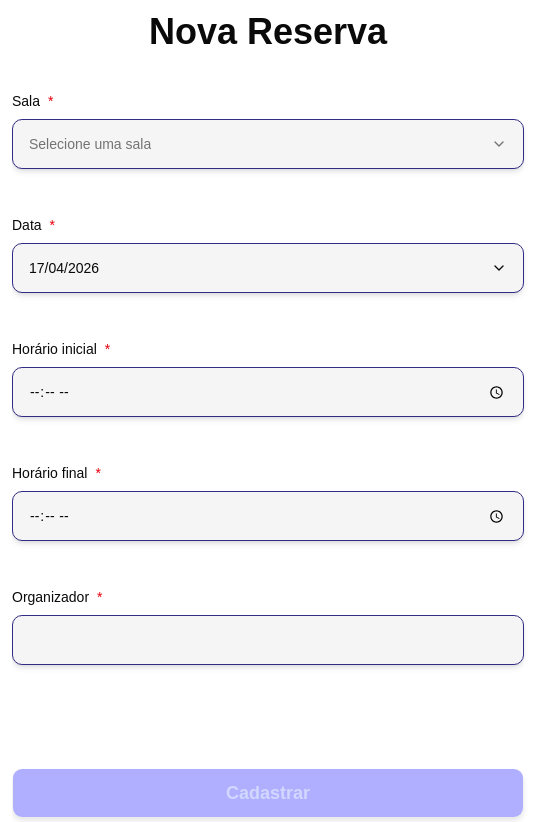
Test case: CreateReservation › Validações › deve habilitar o botão quando o formulário for válido
Check: the text "Selecione uma sala" is shown, box [29,134,151,154]
Click the dropdown with test id "select-salaId" at (90, 144), box [12,119,524,169]
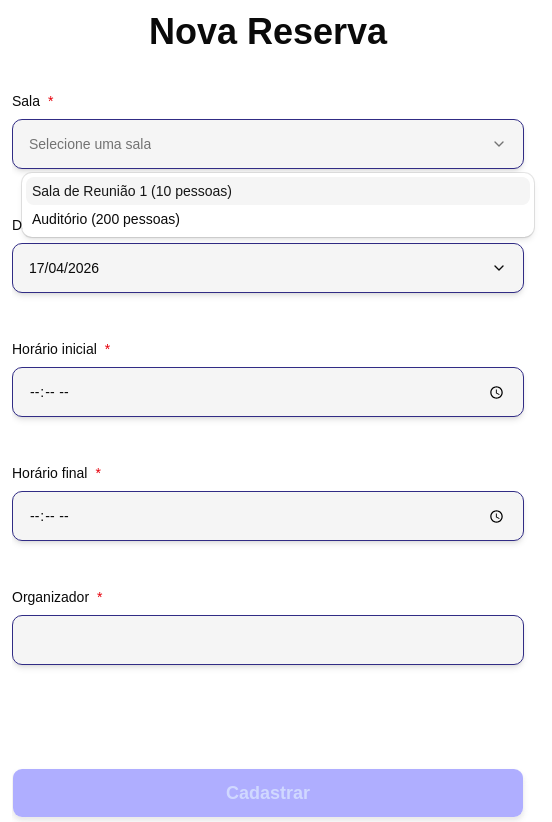
Click the option with test id "select-item-salaId" at (132, 191), box [26,177,530,205]
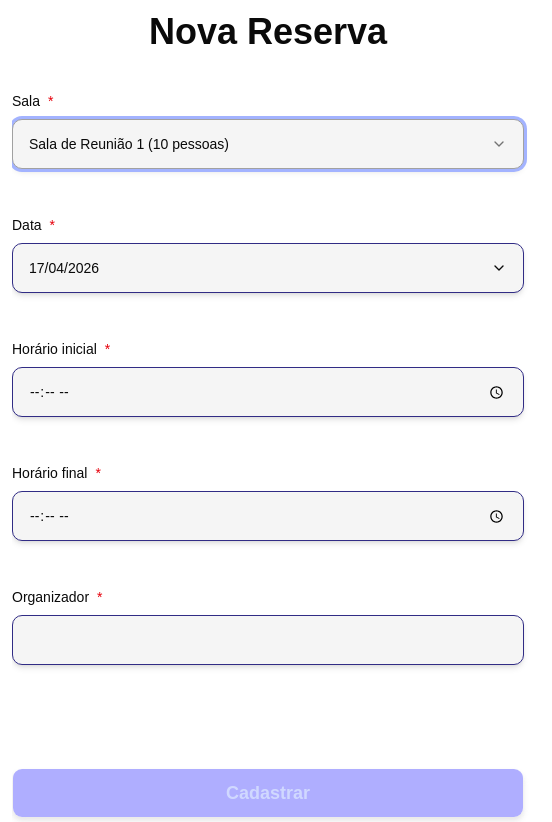
Type "19:00" into the time field with test id "input-inicio" at (268, 392), box [12,367,524,417]
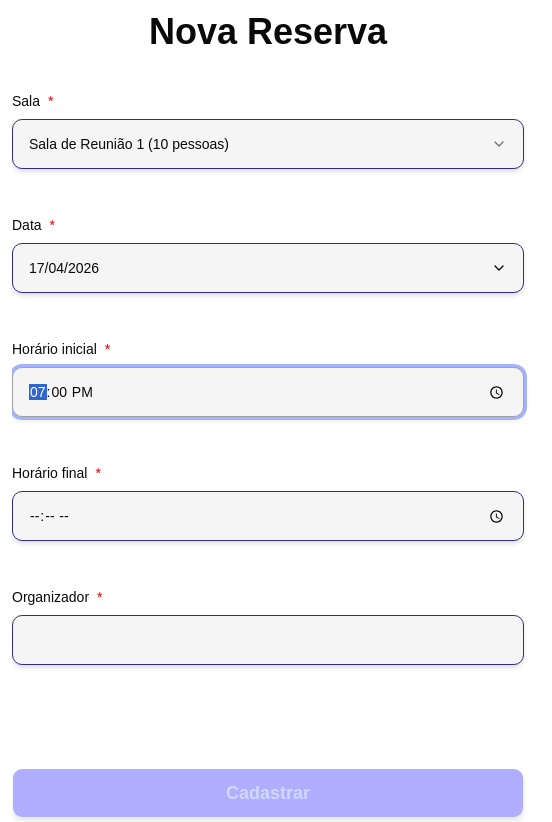
Type "19:30" into the time field with test id "input-fim" at (268, 516), box [12,491,524,541]
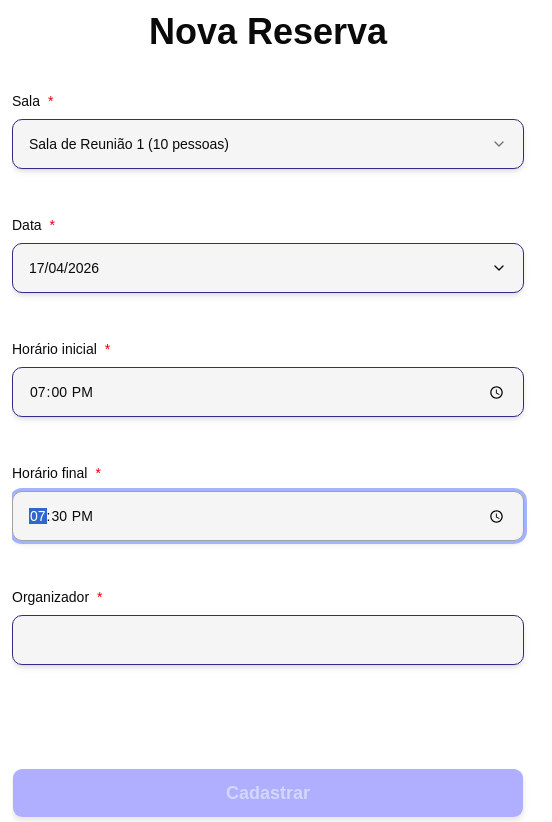
Type "Usuário Teste" into the field with test id "input-organizador" at (268, 640), box [12,615,524,665]
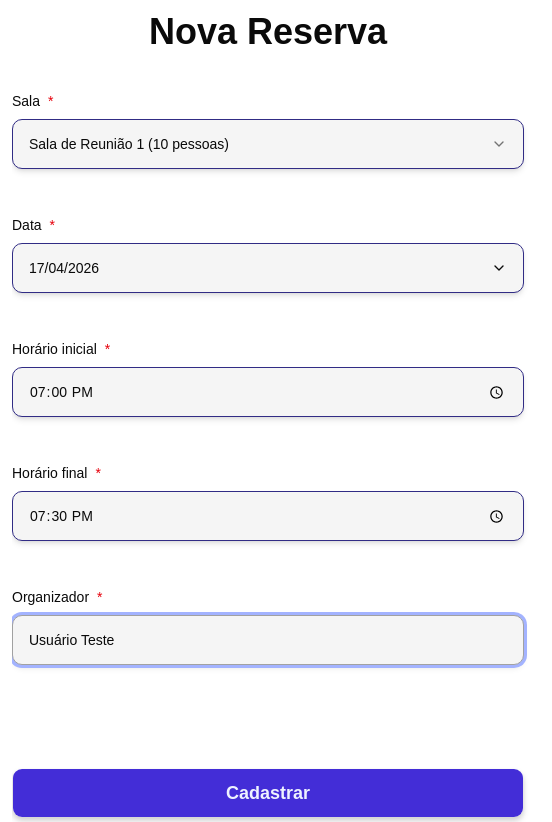
Check: the button "Cadastrar" is enabled, box [12,768,524,818]
